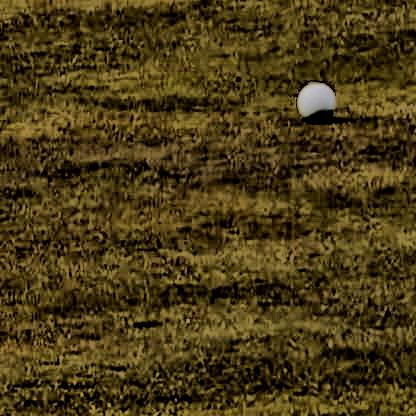golfball: (293, 79, 335, 118)
